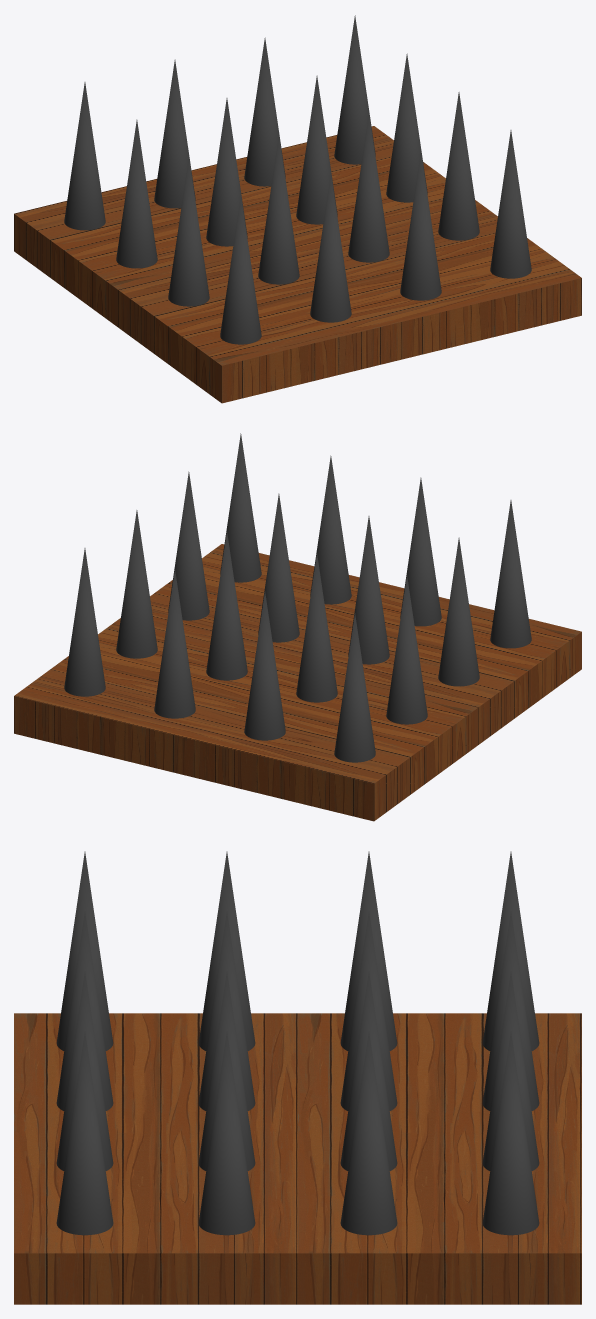
File: Spike Traps(T).fbx
3 renders of one model, top to bottom at view 1: azimuth 30°, elevation 25°; view 2: azimuth 150°, elevation 25°; view 3: azimuth 270°, elevation 25°, orthographic. The views are drawn at different scales.
Parts seen in each view (by area): view 1: Spikes; view 2: Spikes; view 3: Spikes.
Part boxes in pixels (x1,y1,x2,y2): Spikes: (14,15,581,403); Spikes: (14,433,581,821); Spikes: (14,851,581,1304).
Size of the model in its own units: 400 by 190 by 400.
